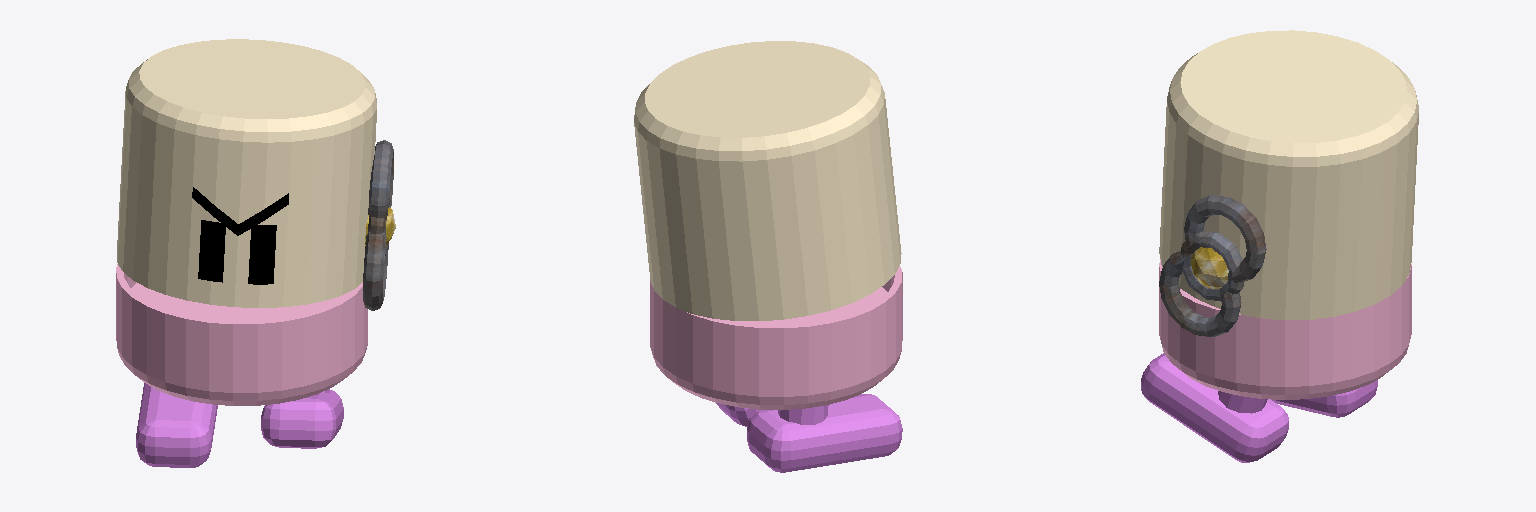
3 renders of one model, left to right at view 1: azimuth 30°, elevation 25°; view 2: azimuth 150°, elevation 25°; view 3: azimuth 270°, elevation 25°, orthographic.
Parts seen in each view (by area): view 1: Head, Jaw, RightLeg, WindupKey, LeftLeg; view 2: Head, Jaw, RightLeg; view 3: Head, Jaw, WindupKey, LeftLeg, RightLeg.
Boxes of the visible parts, <box> form: Head: <box>117,39,376,307</box>; Jaw: <box>116,264,367,405</box>; RightLeg: <box>136,383,217,467</box>; WindupKey: <box>363,140,395,310</box>; LeftLeg: <box>261,389,343,448</box>; Head: <box>634,41,901,320</box>; Jaw: <box>650,266,902,409</box>; RightLeg: <box>747,394,902,472</box>; Head: <box>1159,30,1418,319</box>; Jaw: <box>1159,259,1411,399</box>; WindupKey: <box>1159,195,1266,336</box>; LeftLeg: <box>1141,353,1288,462</box>; RightLeg: <box>1272,380,1377,417</box>.
Bounding box in the file's own units: 114 × 158 × 110.
Materials: 6 (2 with a texture image).